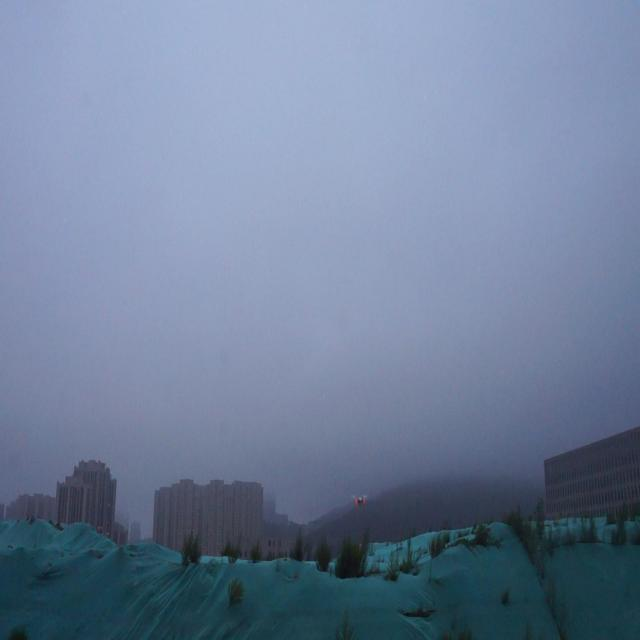UAV: (351, 496, 368, 508)
